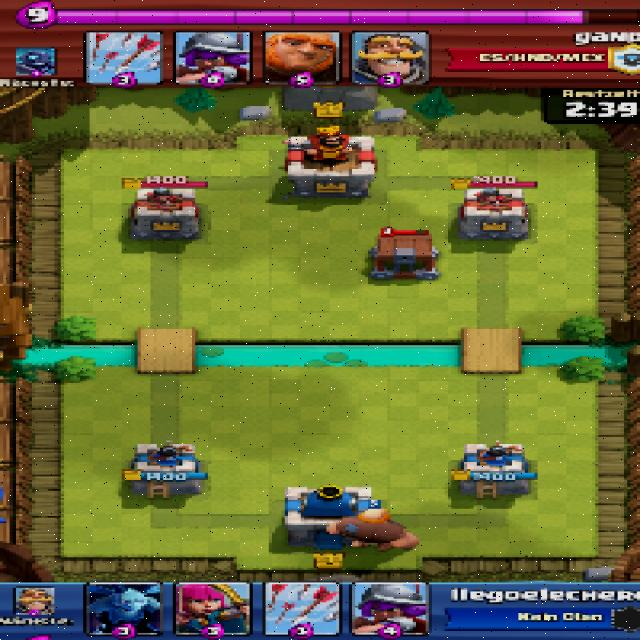Player-GoblinCage: (370, 235, 442, 278)
